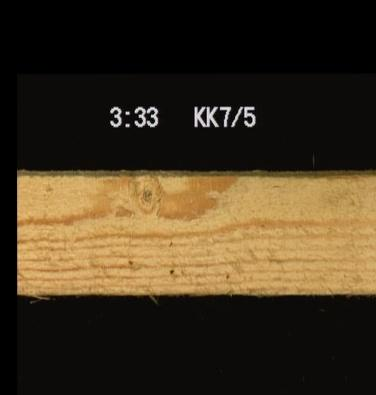sound_knot: (128, 174, 164, 214)
